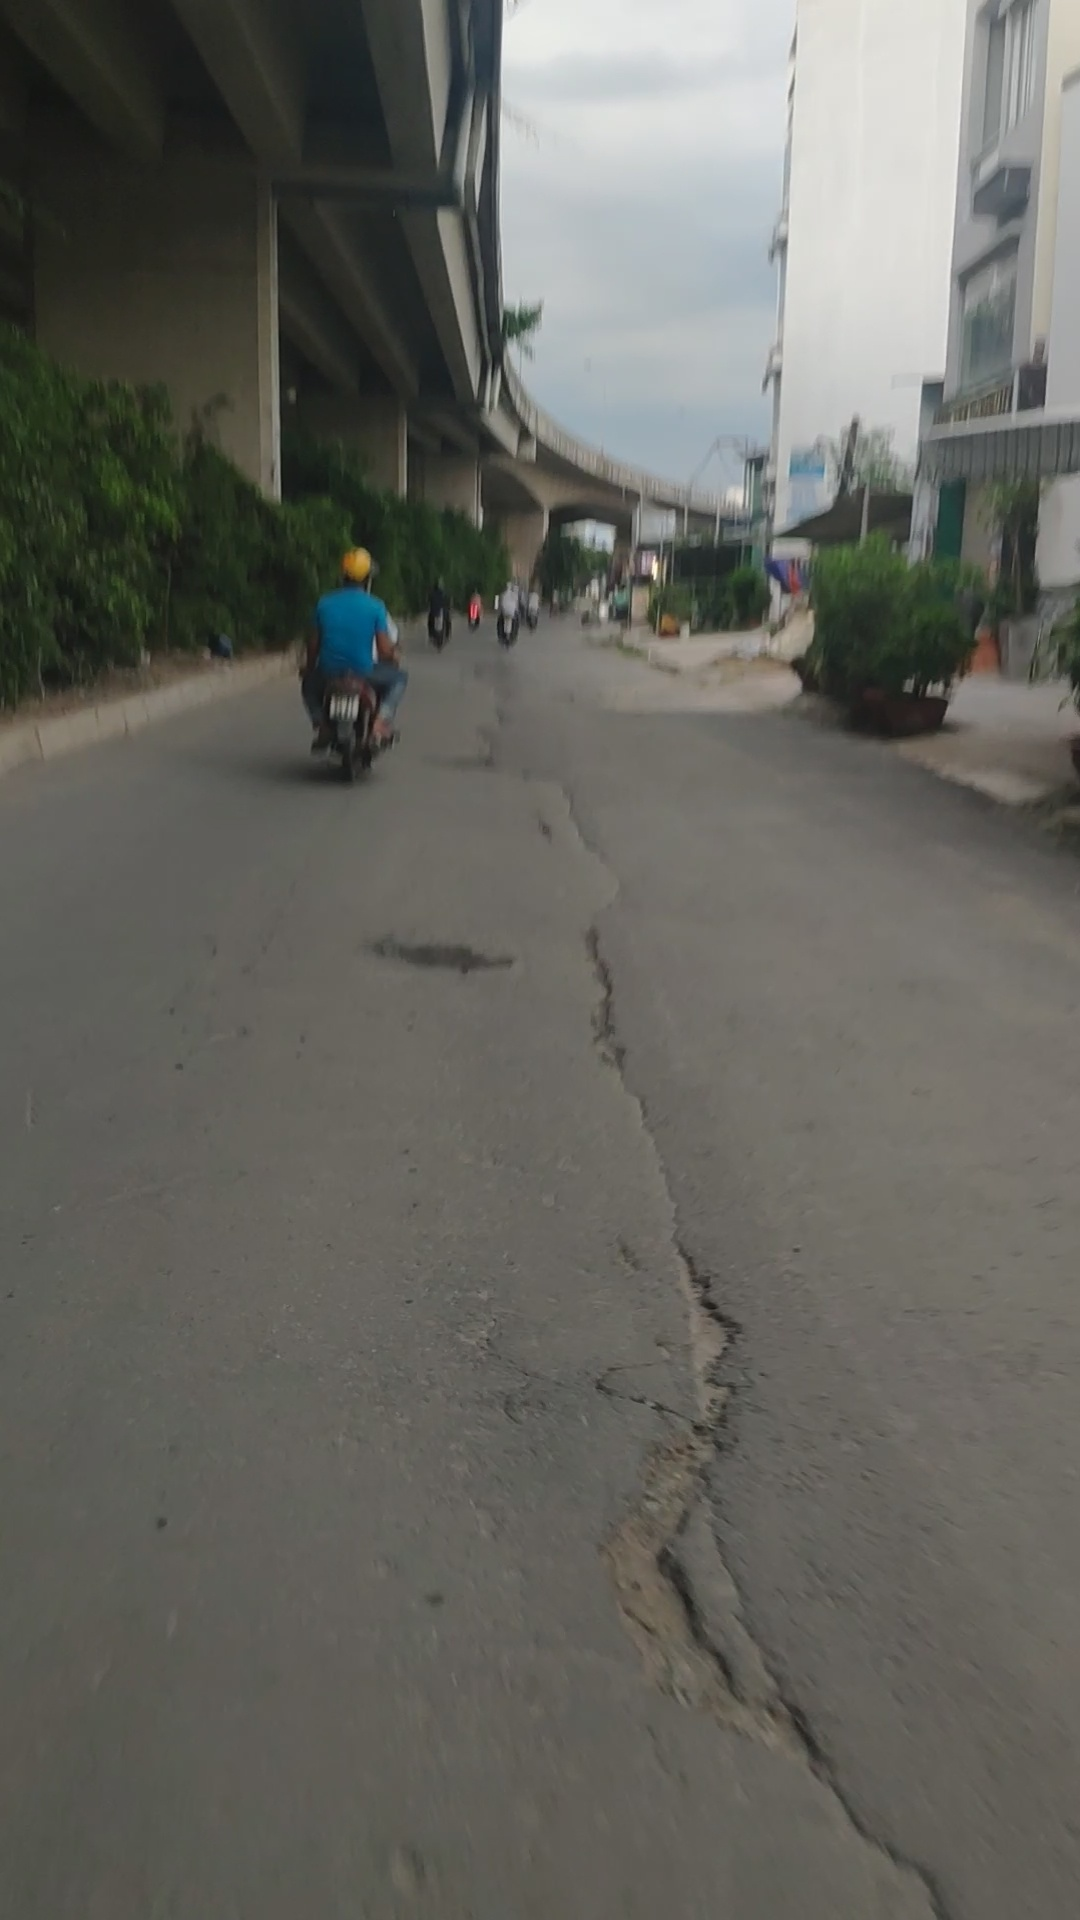hole: (593, 1212, 785, 1778)
